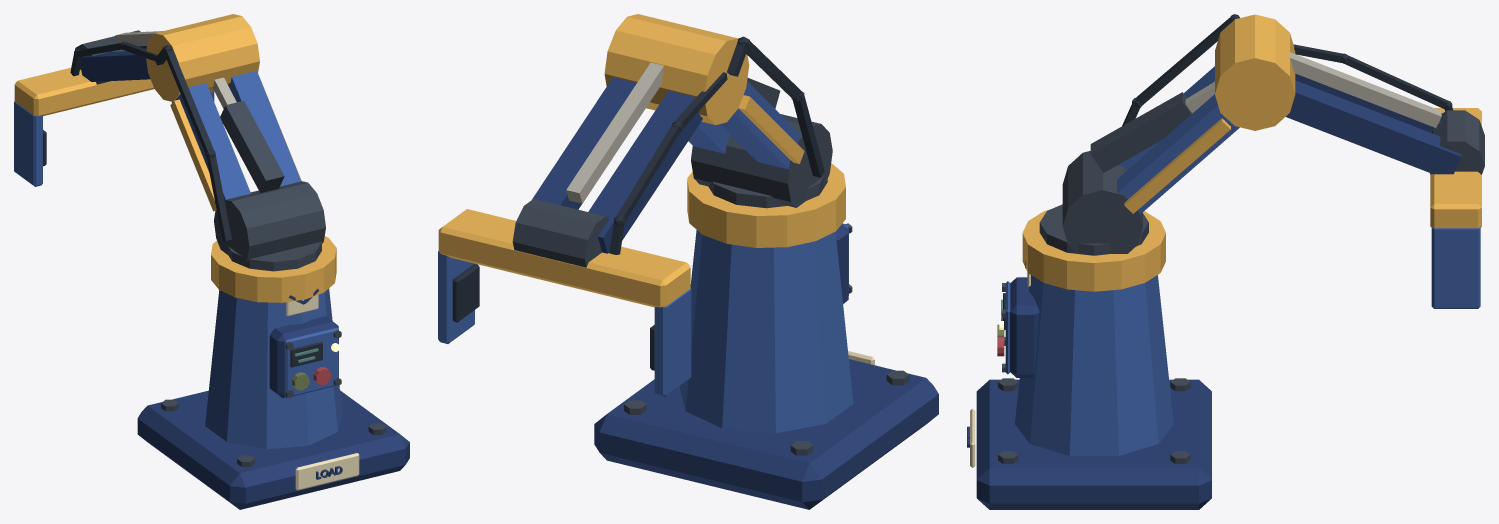
File: mach_loading_arm.glb
3 views of the same model, side by side, from view 1: azimuth 30°, elevation 25°; view 2: azimuth 150°, elevation 25°; view 3: azimuth 270°, elevation 25° (orthographic). The views are drawn at different scales.
Parts seen in each view (by area): view 1: mach_loading_arm__arm_floor, mach_loading_arm__arm_pedestal, mach_loading_arm__elbow_axle, mach_loading_arm__shoulder_axle, mach_loading_arm__rotation_ring, mach_loading_arm__gripper_crosshead, mach_loading_arm__lift_ram_body, mach_loading_arm__upper_arm_plate_-1, mach_loading_arm__upper_arm_plate_1, mach_loading_arm__gripper_jaw_-1, mach_loading_arm__arm_control_face, mach_loading_arm__forearm_plate_-1 (+8 smaller); view 2: mach_loading_arm__arm_pedestal, mach_loading_arm__arm_floor, mach_loading_arm__gripper_crosshead, mach_loading_arm__elbow_axle, mach_loading_arm__rotation_ring, mach_loading_arm__shoulder_axle, mach_loading_arm__forearm_plate_-1, mach_loading_arm__wrist_axle, mach_loading_arm__forearm_plate_1, mach_loading_arm__forearm_link, mach_loading_arm__gripper_jaw_-1, mach_loading_arm__upper_arm_plate_-1 (+10 smaller); view 3: mach_loading_arm__arm_pedestal, mach_loading_arm__arm_floor, mach_loading_arm__elbow_axle, mach_loading_arm__forearm_plate_1, mach_loading_arm__rotation_ring, mach_loading_arm__shoulder_axle, mach_loading_arm__gripper_jaw_1, mach_loading_arm__upper_arm_plate_1, mach_loading_arm__lift_ram_body, mach_loading_arm__gripper_crosshead, mach_loading_arm__forearm_link, mach_loading_arm__arm_control_housing (+7 smaller).
Part boxes in pixels (x1=…): mach_loading_arm__arm_floor: x1=137, y1=390, x2=409, y2=509; mach_loading_arm__arm_pedestal: x1=205, y1=288, x2=342, y2=449; mach_loading_arm__elbow_axle: x1=146, y1=14, x2=259, y2=101; mach_loading_arm__shoulder_axle: x1=214, y1=181, x2=325, y2=265; mach_loading_arm__rotation_ring: x1=211, y1=236, x2=336, y2=302; mach_loading_arm__gripper_crosshead: x1=14, y1=67, x2=154, y2=116; mach_loading_arm__lift_ram_body: x1=220, y1=101, x2=284, y2=192; mach_loading_arm__upper_arm_plate_-1: x1=172, y1=83, x2=250, y2=199; mach_loading_arm__upper_arm_plate_1: x1=228, y1=70, x2=301, y2=186; mach_loading_arm__gripper_jaw_-1: x1=14, y1=101, x2=42, y2=186; mach_loading_arm__arm_control_face: x1=284, y1=328, x2=338, y2=397; mach_loading_arm__forearm_plate_-1: x1=80, y1=51, x2=150, y2=81; mach_loading_arm__arm_pedestal: x1=680, y1=230, x2=853, y2=433; mach_loading_arm__arm_floor: x1=594, y1=359, x2=938, y2=509; mach_loading_arm__gripper_crosshead: x1=438, y1=209, x2=690, y2=307; mach_loading_arm__elbow_axle: x1=604, y1=14, x2=749, y2=125; mach_loading_arm__rotation_ring: x1=687, y1=163, x2=845, y2=247; mach_loading_arm__shoulder_axle: x1=691, y1=114, x2=832, y2=207; mach_loading_arm__forearm_plate_-1: x1=588, y1=90, x2=702, y2=253; mach_loading_arm__wrist_axle: x1=512, y1=199, x2=609, y2=267; mach_loading_arm__forearm_plate_1: x1=532, y1=77, x2=636, y2=209; mach_loading_arm__forearm_link: x1=566, y1=62, x2=663, y2=203; mach_loading_arm__gripper_jaw_-1: x1=654, y1=288, x2=691, y2=396; mach_loading_arm__upper_arm_plate_-1: x1=720, y1=81, x2=801, y2=169; mach_loading_arm__arm_pedestal: x1=1015, y1=275, x2=1173, y2=455; mach_loading_arm__arm_floor: x1=976, y1=379, x2=1211, y2=509; mach_loading_arm__elbow_axle: x1=1215, y1=14, x2=1295, y2=130; mach_loading_arm__forearm_plate_1: x1=1286, y1=80, x2=1461, y2=174; mach_loading_arm__rotation_ring: x1=1022, y1=210, x2=1165, y2=291; mach_loading_arm__shoulder_axle: x1=1062, y1=151, x2=1142, y2=253; mach_loading_arm__gripper_jaw_1: x1=1431, y1=227, x2=1480, y2=308; mach_loading_arm__upper_arm_plate_1: x1=1117, y1=94, x2=1239, y2=214; mach_loading_arm__lift_ram_body: x1=1090, y1=92, x2=1192, y2=172; mach_loading_arm__gripper_crosshead: x1=1430, y1=108, x2=1481, y2=228; mach_loading_arm__forearm_link: x1=1290, y1=52, x2=1441, y2=127; mach_loading_arm__arm_control_housing: x1=1010, y1=277, x2=1039, y2=377.
Size of the model in its own units: 0.825 by 1.65 by 1.8.
